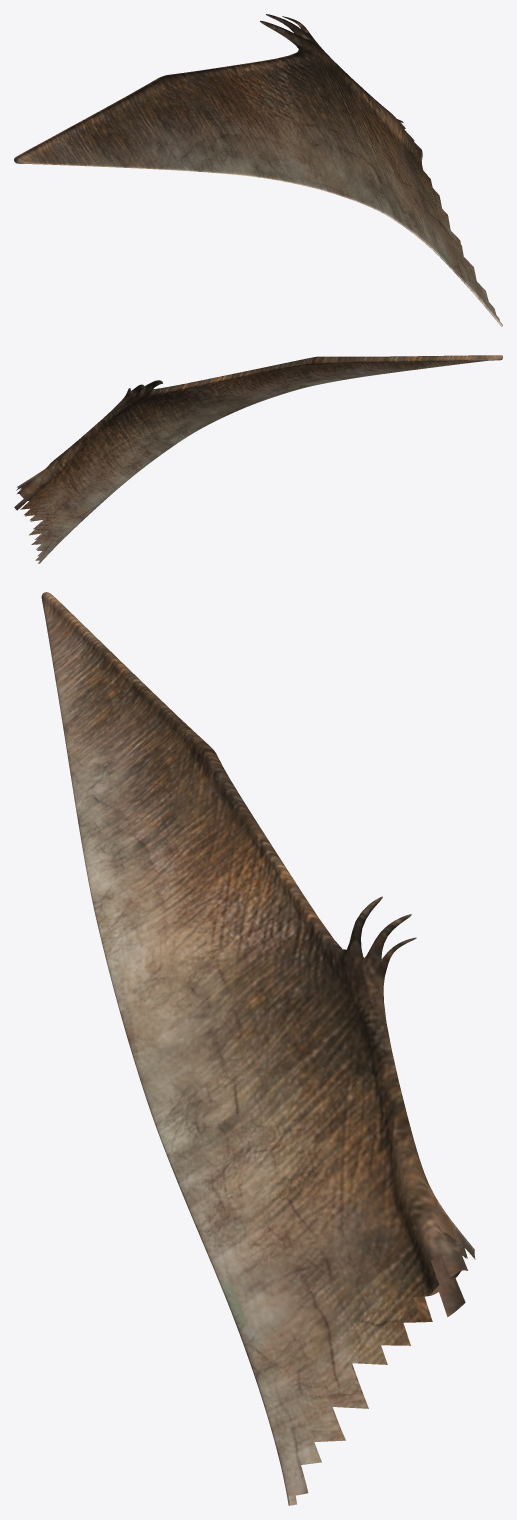
Rendered from QuetzalAla.obj.
3 views of the same model, one above another, from view 1: azimuth 30°, elevation 25°; view 2: azimuth 150°, elevation 25°; view 3: azimuth 270°, elevation 25° (orthographic). The views are drawn at different scales.
Visible parts, largest first — view 1: 13623_Quetzalcoatlus; view 2: 13623_Quetzalcoatlus; view 3: 13623_Quetzalcoatlus.
Boxes of the visible parts, x1,y1,x2,y2 form: 13623_Quetzalcoatlus: (14, 14, 502, 326); 13623_Quetzalcoatlus: (14, 355, 502, 563); 13623_Quetzalcoatlus: (41, 592, 475, 1505).
Size of the model in its own units: 178 by 110 by 82.91.
1 material, 1 textured.
